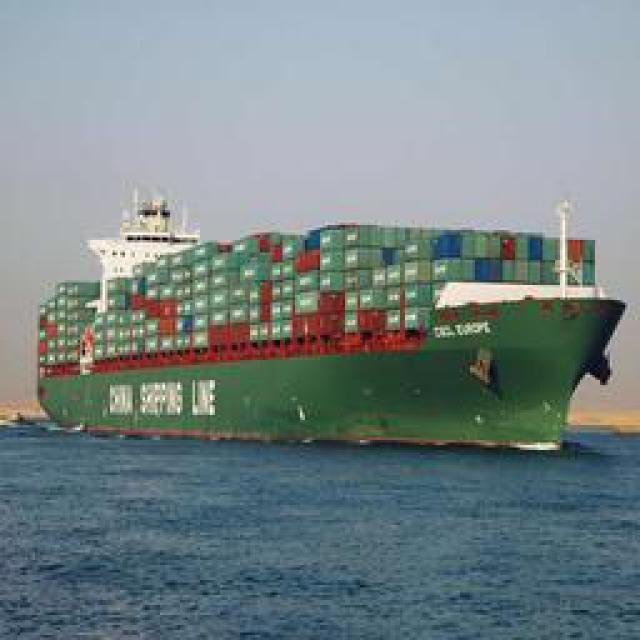Ship: (25, 201, 625, 454)
